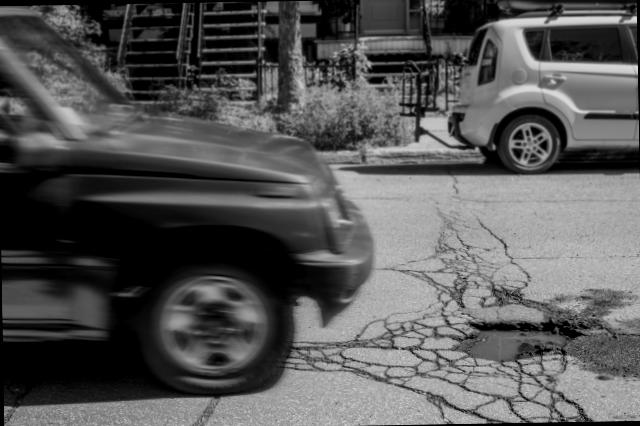Pothole: (444, 288, 586, 368)
